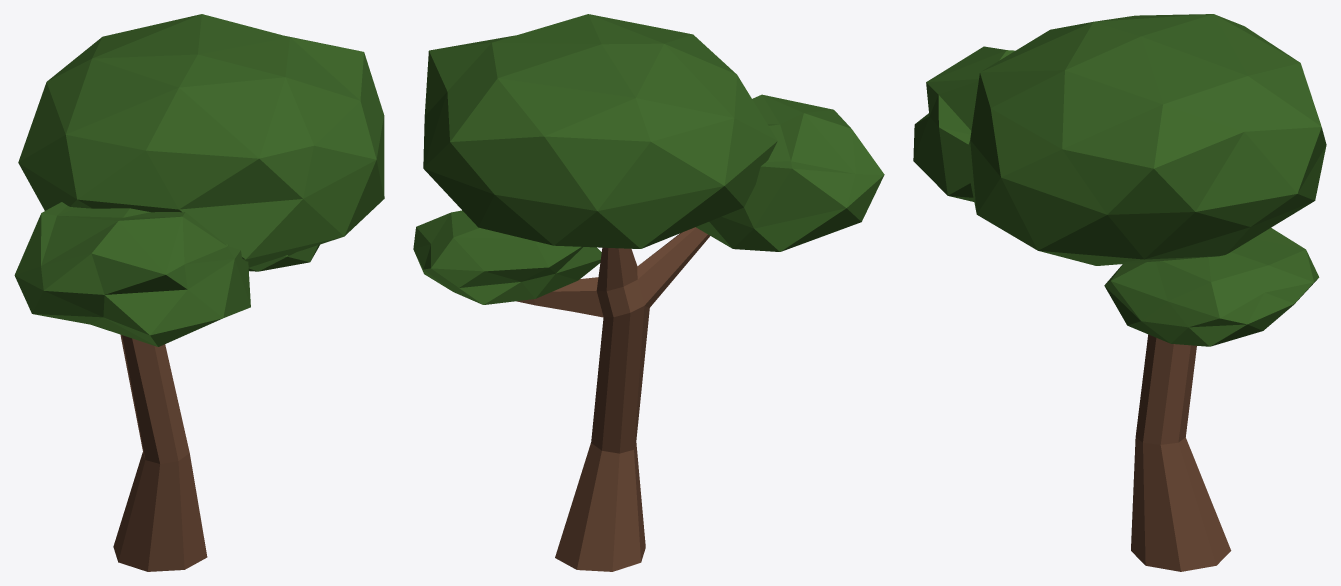
The model's file is NormalTree.glb.
The picture shows the model from 3 angles, left to right: view 1: azimuth 30°, elevation 25°; view 2: azimuth 150°, elevation 25°; view 3: azimuth 270°, elevation 25°; orthographic projection. The views are drawn at different scales.
Parts seen in each view (by area): view 1: Leaves.002, Leaves.001, Circle, Leaves; view 2: Leaves.002, Circle, Leaves.001, Leaves; view 3: Leaves.002, Leaves, Circle, Leaves.001.
Part boxes in pixels (box(x1,y1,x2,y2)): Leaves.002: box(18, 14, 384, 267); Leaves.001: box(14, 202, 250, 346); Circle: box(113, 334, 207, 571); Leaves: box(248, 244, 319, 271); Leaves.002: box(423, 14, 777, 248); Circle: box(517, 227, 709, 571); Leaves.001: box(696, 94, 884, 251); Leaves: box(413, 210, 601, 304); Leaves.002: box(965, 14, 1326, 265); Leaves: box(1104, 228, 1319, 346); Circle: box(1131, 334, 1231, 571); Leaves.001: box(913, 46, 1014, 201).
Bounding box in the file's own units: 5.63 × 6.9 × 4.94.
